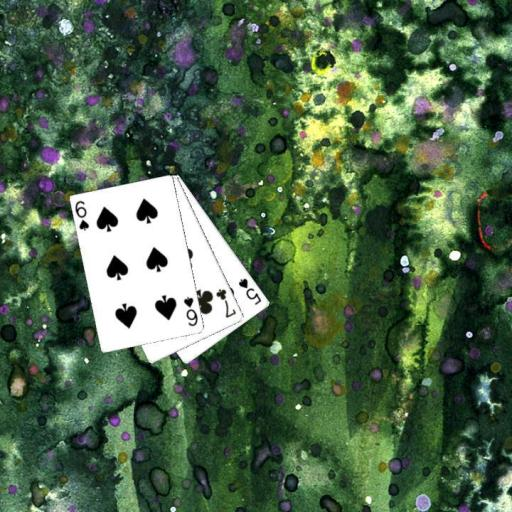5S: (235, 275, 263, 307)
6S: (181, 294, 200, 328), (72, 198, 91, 232)
7C: (213, 286, 238, 319)
